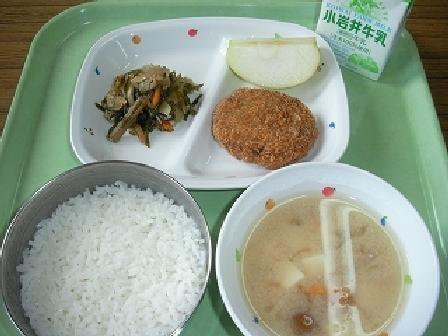Apple: (217, 20, 321, 86)
Milk: (317, 0, 409, 77)
Rice: (0, 156, 216, 327)
Soups: (221, 165, 431, 330)
cutlet: (209, 88, 322, 169)
salad with sauce: (96, 58, 198, 143)
